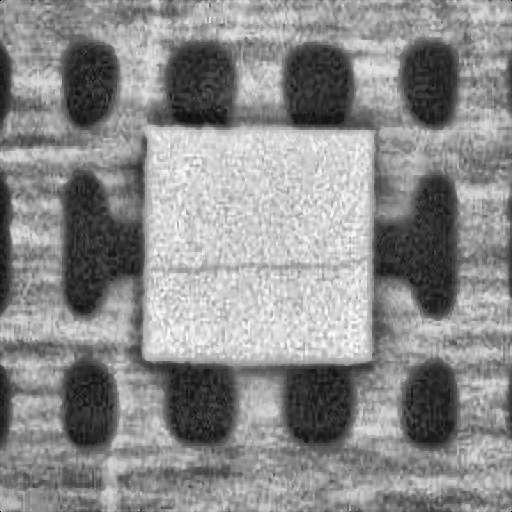DIE_CRACK: (147, 254, 369, 270)
